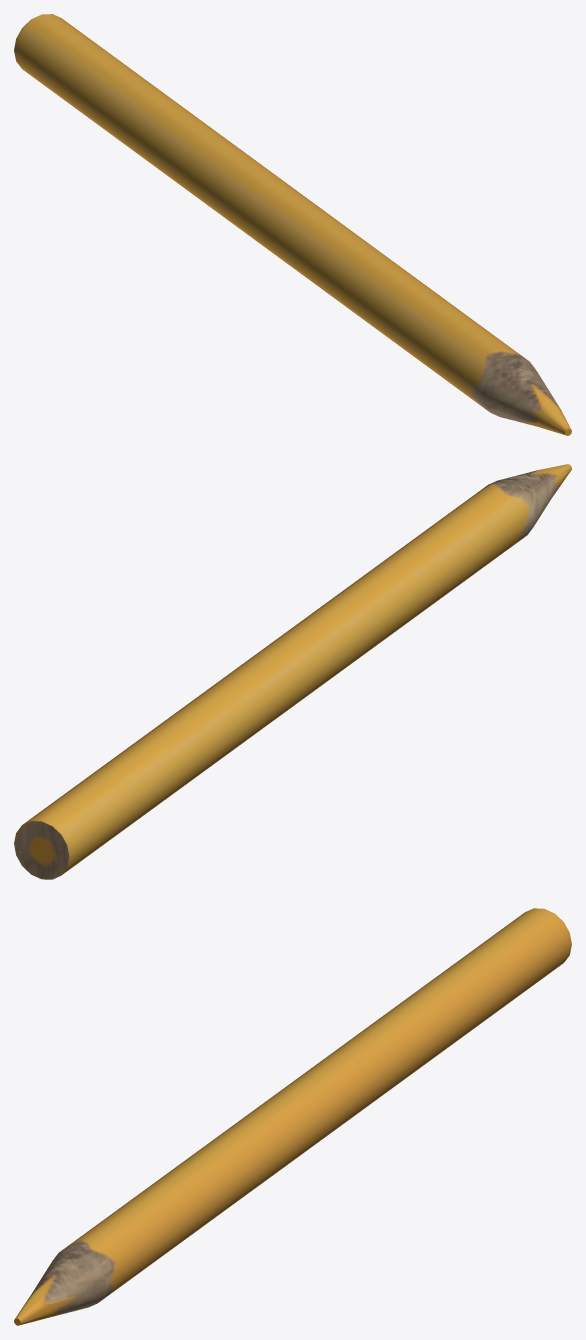
The model's file is SM_Crayon07.fbx.
The picture shows the model from 3 angles, top to bottom: view 1: azimuth 30°, elevation 25°; view 2: azimuth 150°, elevation 25°; view 3: azimuth 330°, elevation 25°; orthographic projection.
Parts seen in each view (by area): view 1: SM_Crayon07_LOD0; view 2: SM_Crayon07_LOD0; view 3: SM_Crayon07_LOD0.
Part boxes in pixels (left/top/right/bottom): SM_Crayon07_LOD0: left=14, top=14, right=571, bottom=435; SM_Crayon07_LOD0: left=14, top=464, right=571, bottom=879; SM_Crayon07_LOD0: left=14, top=908, right=571, bottom=1325.
Size of the model in its own units: 1.11 by 17.89 by 1.09.
1 material, 1 textured.
